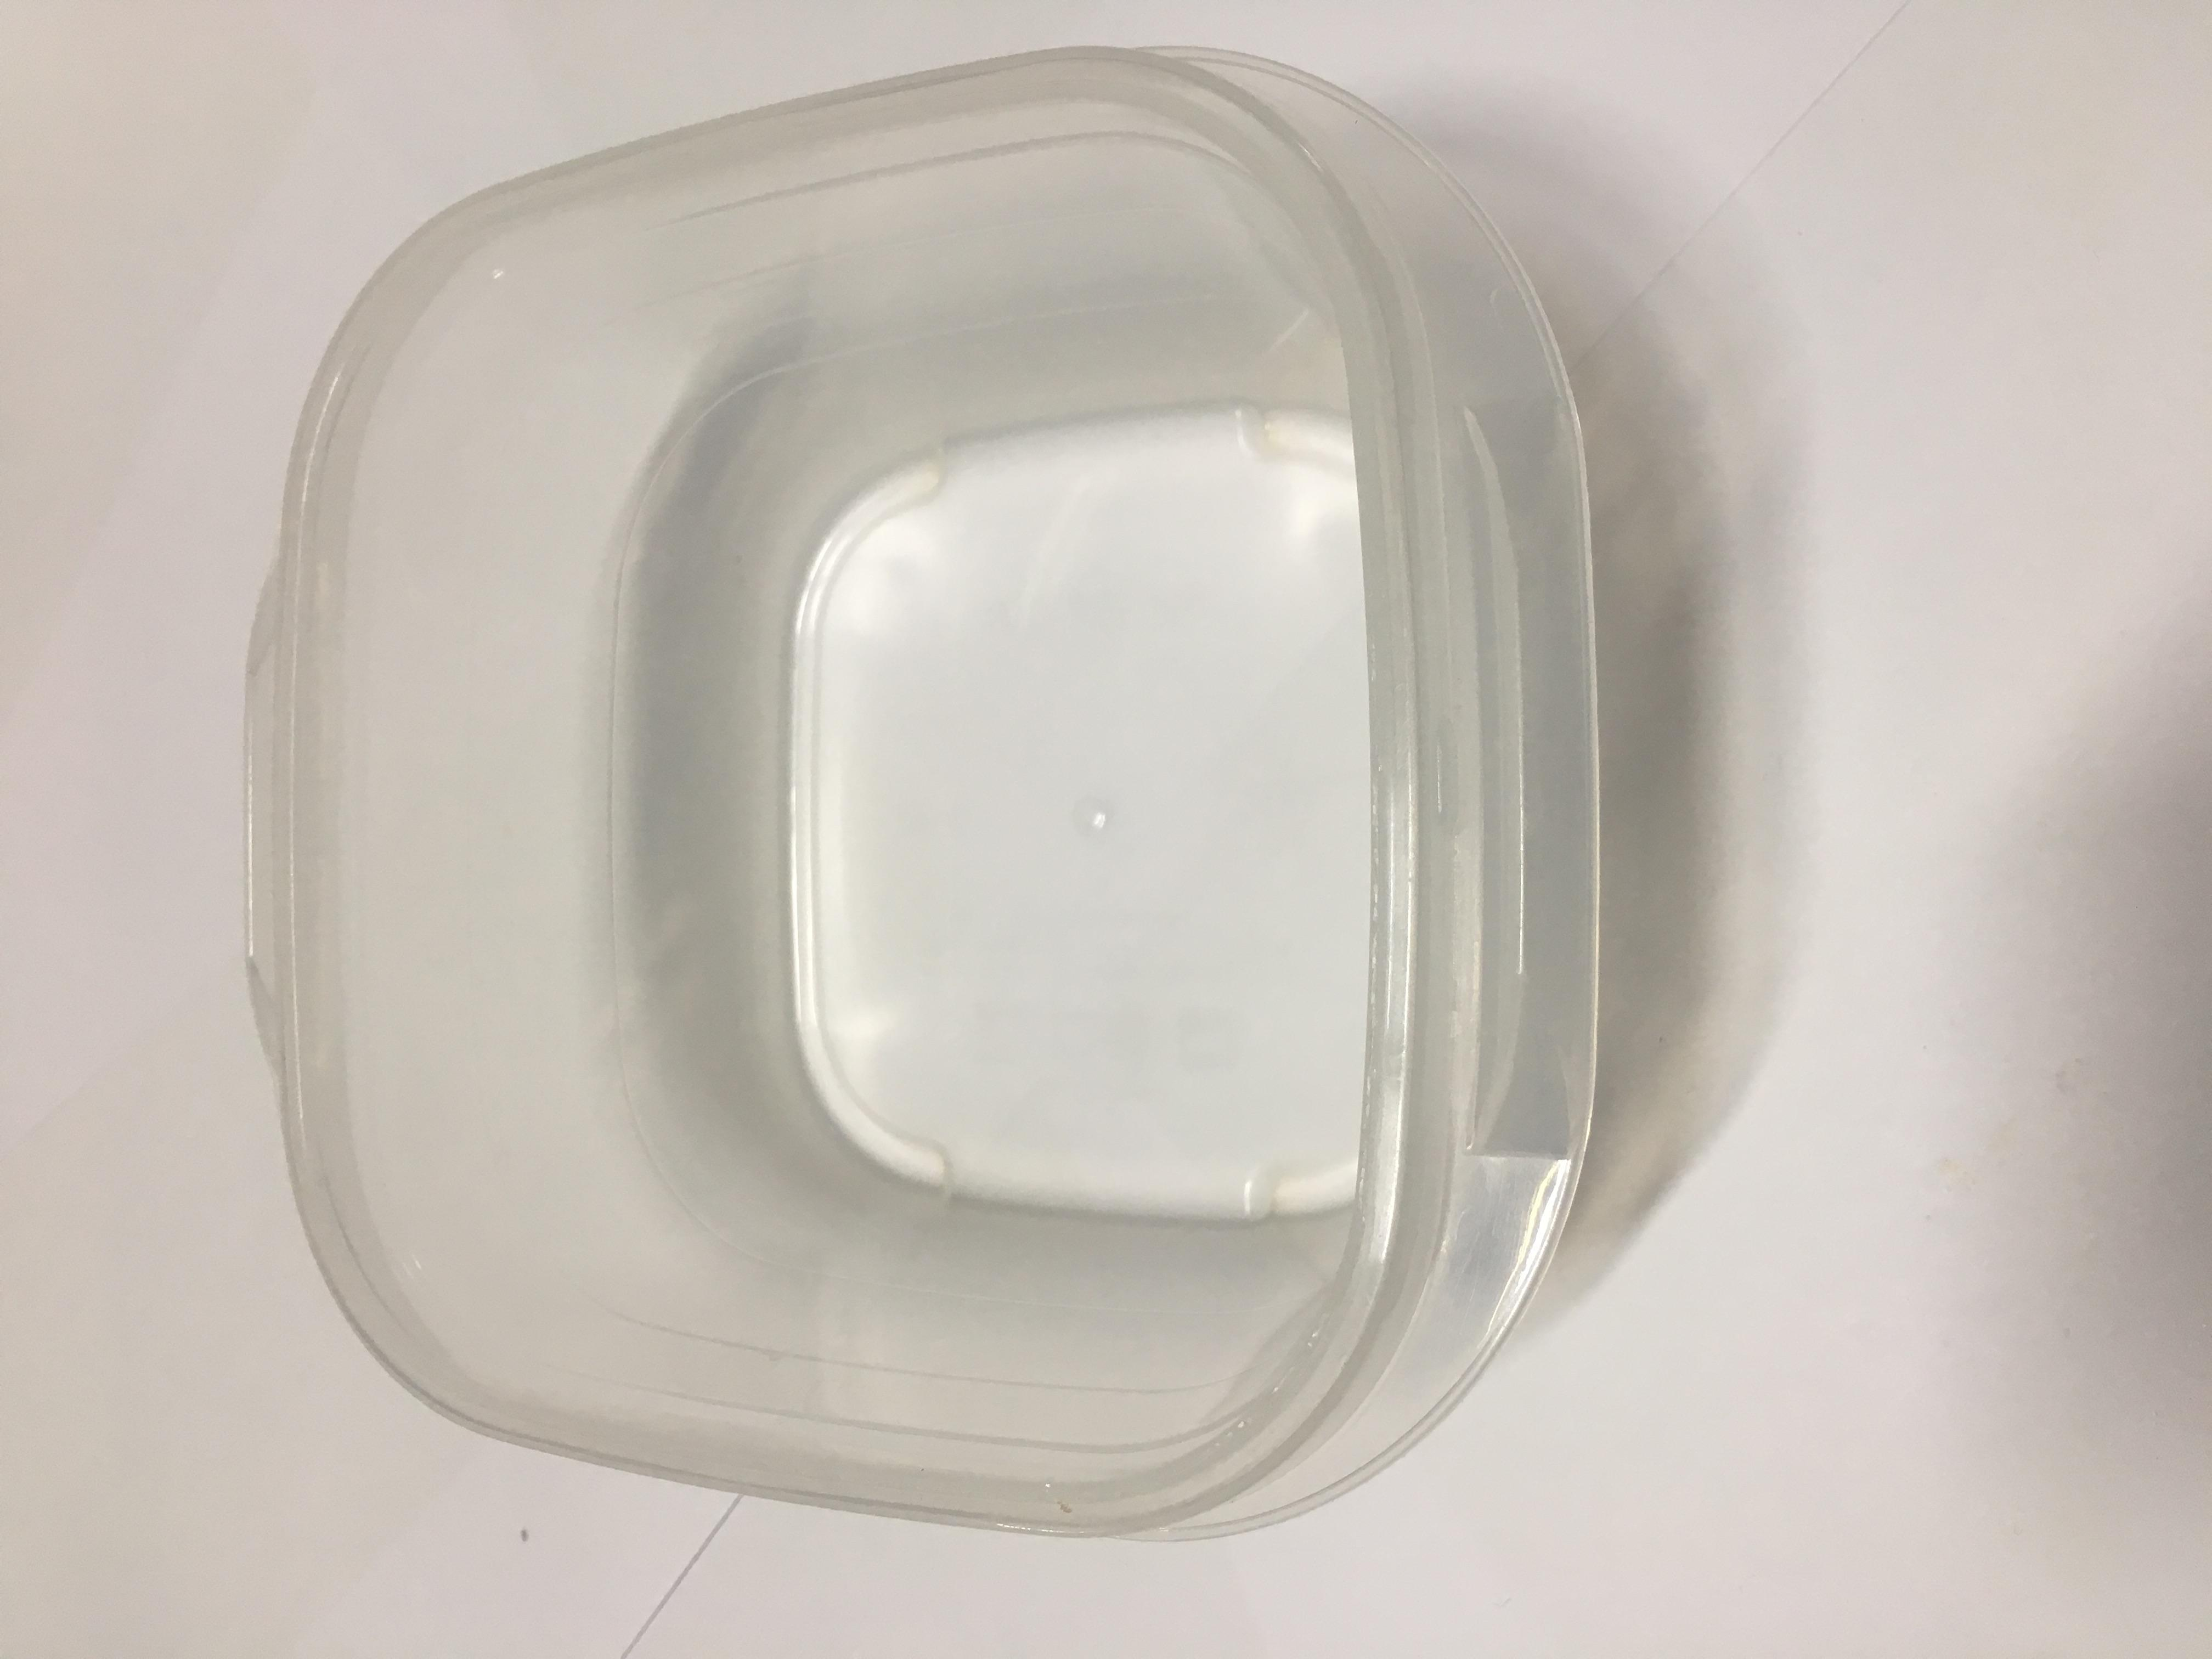bottle: (158, 173, 2186, 1202)
